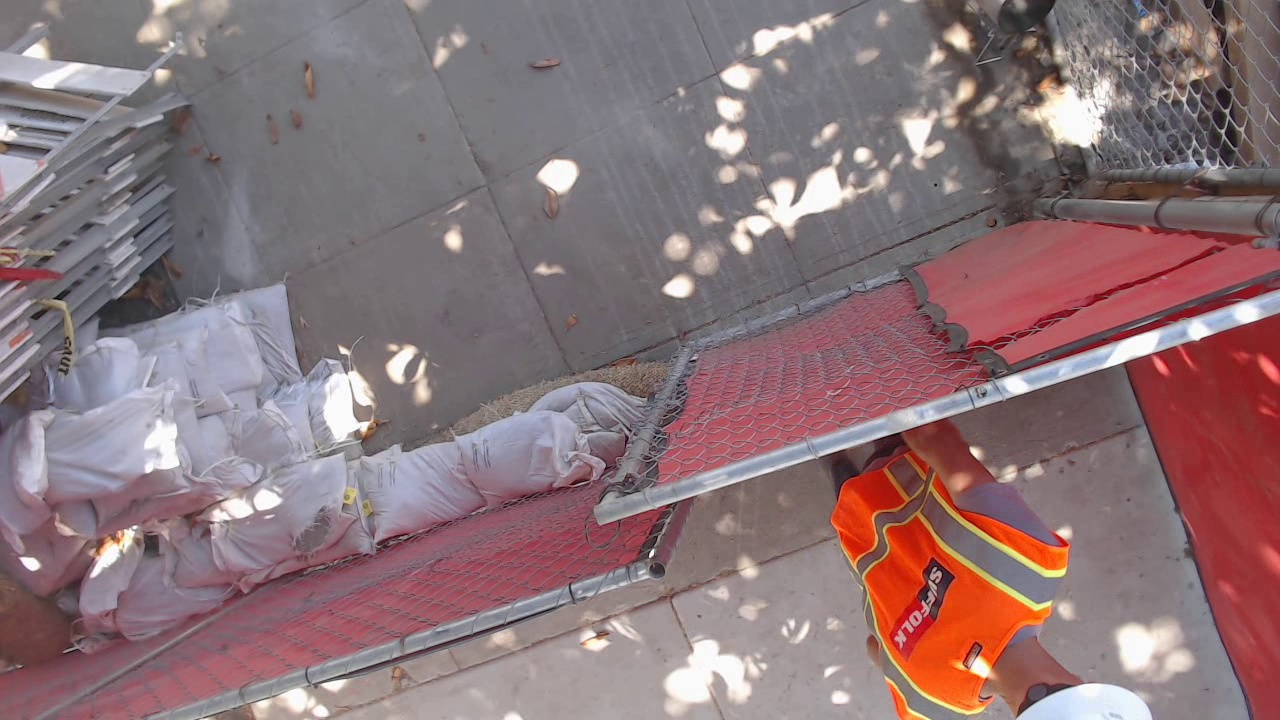hardhat: (1008, 682, 1155, 720)
person: (824, 457, 1152, 720)
safetyvest: (831, 449, 1071, 716)
